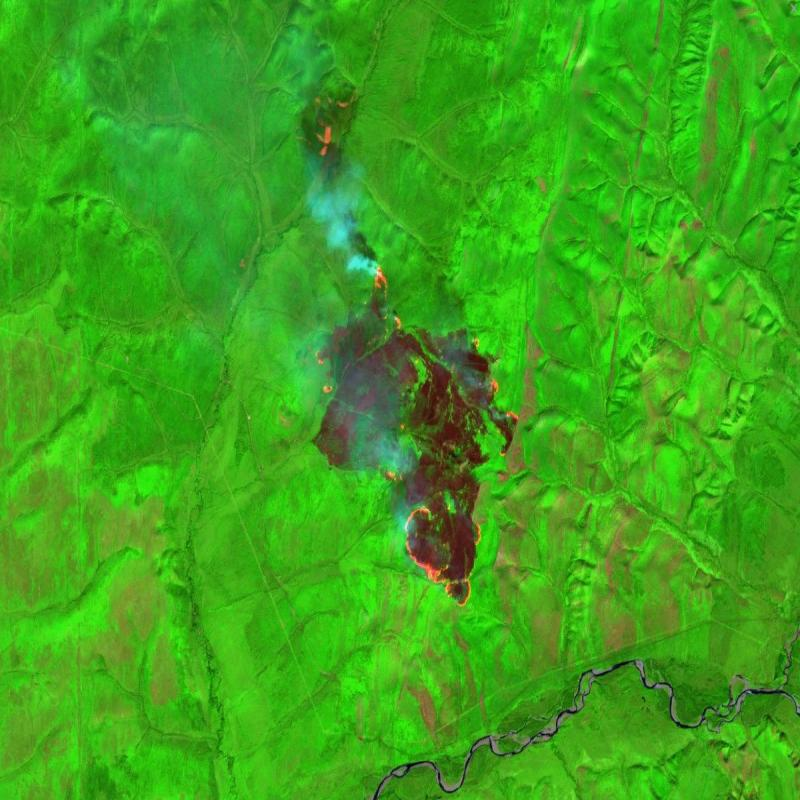fire: (310, 259, 520, 621)
